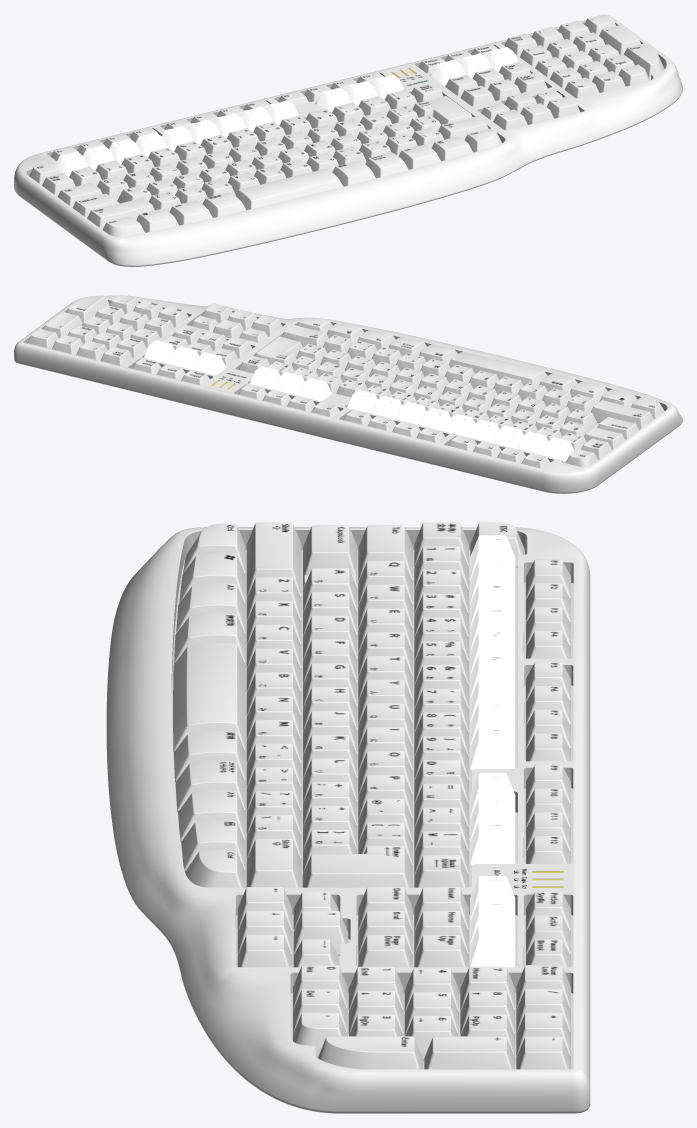
The model's file is keyboard_lvl4.glb.
3 renders of one model, top to bottom at view 1: azimuth 30°, elevation 25°; view 2: azimuth 150°, elevation 25°; view 3: azimuth 270°, elevation 25°, orthographic. The views are drawn at different scales.
Parts seen in each view (by area): view 1: key.white, body.outer, body.outer_1, key.gray, body.outer_2, body.inner; view 2: key.white, body.outer, key.gray, body.outer_1, body.outer_2, body.inner; view 3: key.white, body.outer, key.gray, body.outer_2, body.outer_1, body.inner.
Boxes of the visible parts, bbox=[...] form: key.white: bbox=[29, 14, 664, 236]; body.outer: bbox=[14, 15, 679, 255]; body.outer_1: bbox=[14, 76, 682, 266]; key.gray: bbox=[54, 46, 518, 176]; body.outer_2: bbox=[20, 15, 671, 239]; body.inner: bbox=[26, 22, 666, 175]; key.white: bbox=[27, 295, 664, 468]; body.outer: bbox=[14, 295, 679, 485]; key.gray: bbox=[144, 340, 574, 461]; body.outer_1: bbox=[14, 354, 682, 493]; body.outer_2: bbox=[20, 296, 671, 472]; body.inner: bbox=[23, 300, 667, 462]; key.white: bbox=[173, 522, 570, 1069]; body.outer: bbox=[120, 527, 590, 1098]; key.gray: bbox=[470, 535, 515, 967]; body.outer_2: bbox=[167, 527, 578, 1071]; body.outer_1: bbox=[106, 563, 590, 1113]; body.inner: bbox=[171, 530, 573, 1069].
Size of the model in its own units: 0.6725 by 0.035 by 0.2484.
6 materials, 3 textured.
